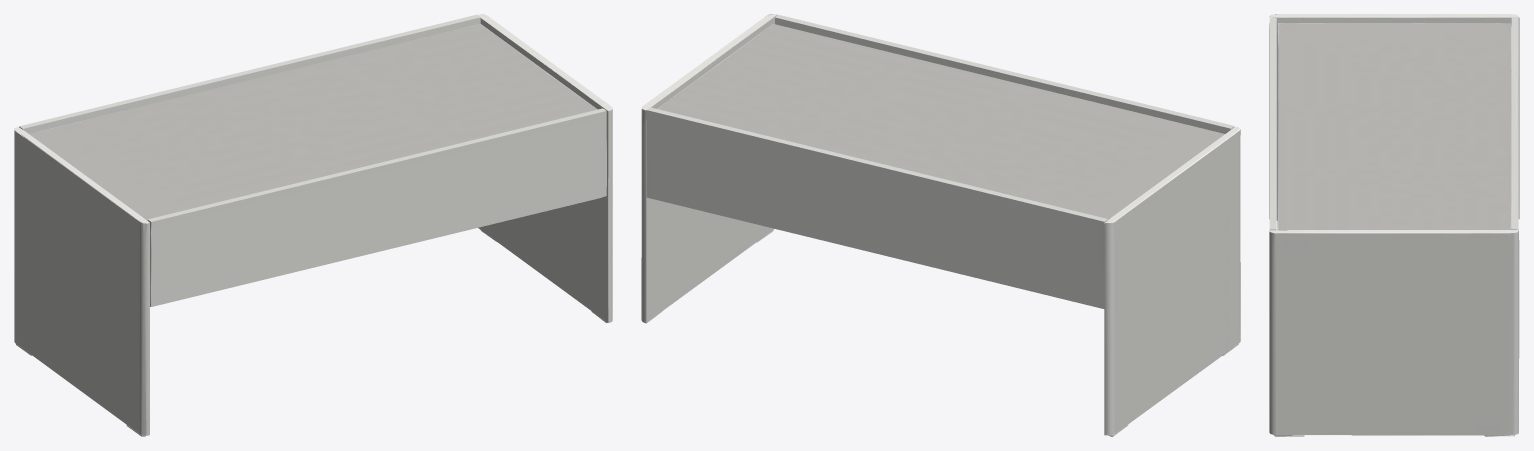
File: 09 - DUNDRA Activity table with storage - whitegrey.glb
3 renders of one model, left to right at view 1: azimuth 30°, elevation 25°; view 2: azimuth 150°, elevation 25°; view 3: azimuth 270°, elevation 25°, orthographic. The views are drawn at different scales.
Parts seen in each view (by area): view 1: model; view 2: model; view 3: model.
Part boxes in pixels (x1,y1,x2,y2): model: (14, 14, 612, 436); model: (641, 14, 1240, 436); model: (1269, 14, 1519, 436).
Bounding box in the file's own units: 1.18 × 0.5153 × 0.5711.
Materials: 1 (1 with a texture image).
